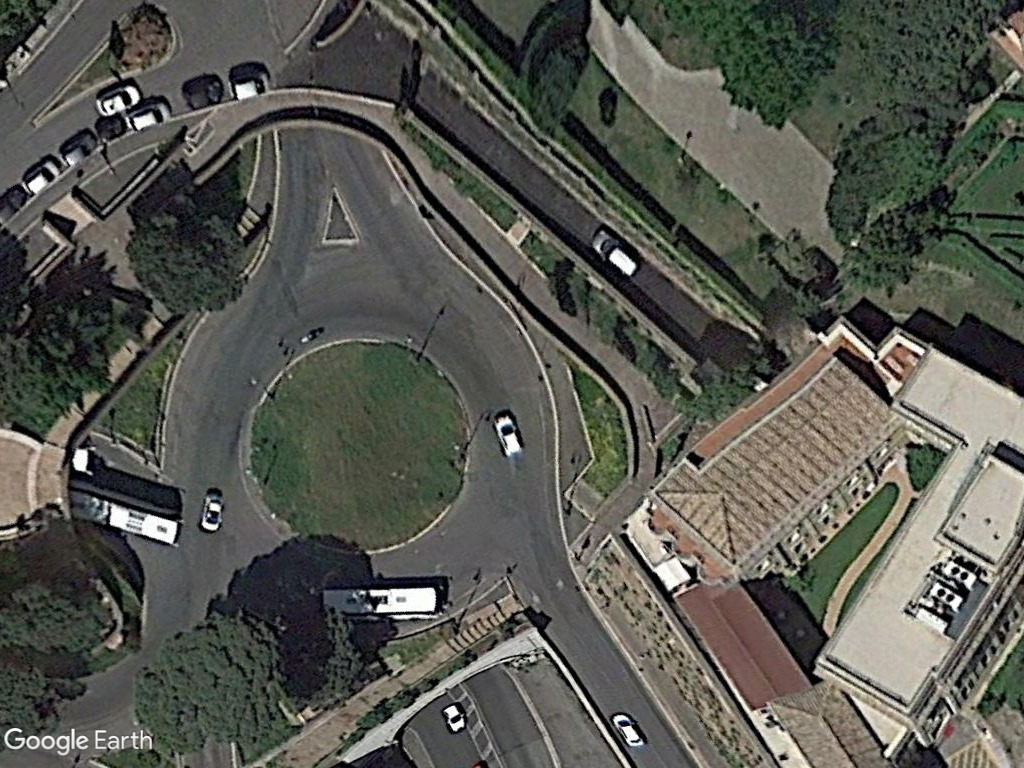bus: (68, 488, 181, 548), (318, 580, 443, 620)
car: (486, 406, 527, 462), (53, 128, 103, 169), (15, 157, 66, 195), (121, 97, 169, 134), (90, 83, 142, 115), (179, 77, 226, 110), (607, 709, 644, 750), (224, 73, 275, 100), (197, 489, 227, 534), (438, 703, 467, 735)
van: (580, 224, 640, 279)
